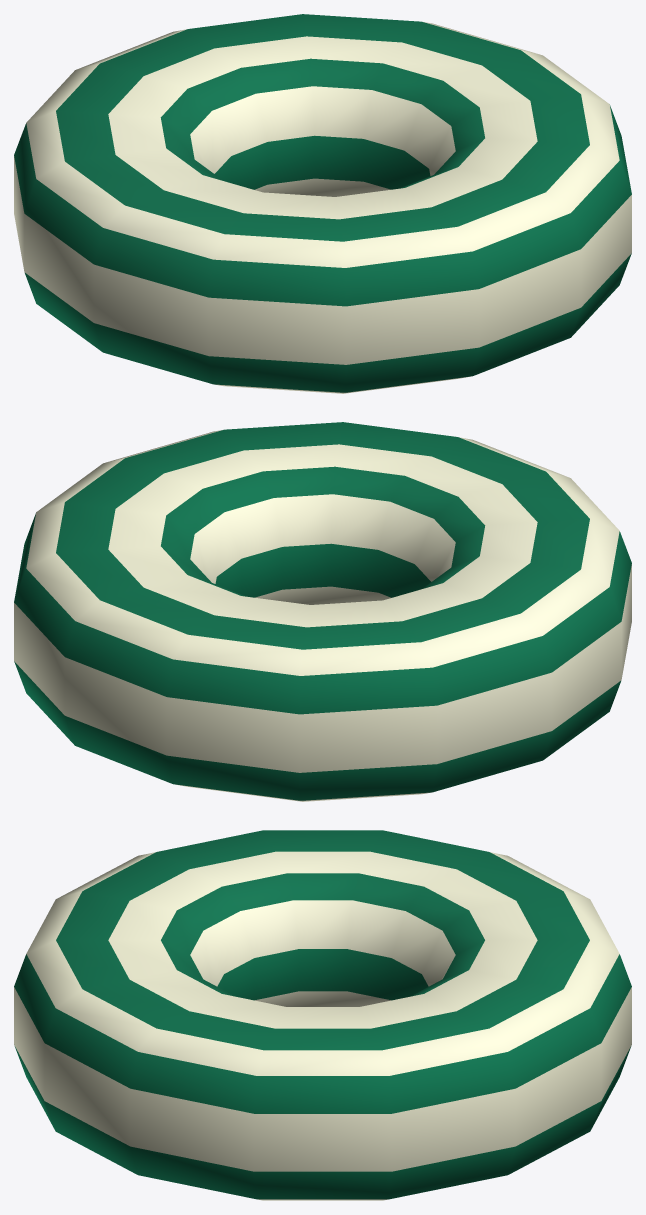
Rendered from candy_hard_6.fbx.
The picture shows the model from 3 angles, top to bottom: view 1: azimuth 30°, elevation 25°; view 2: azimuth 150°, elevation 25°; view 3: azimuth 270°, elevation 25°; orthographic projection.
Parts seen in each view (by area): view 1: c_h_6; view 2: c_h_6; view 3: c_h_6.
Boxes of the visible parts, x1,y1,x2,y2 form: c_h_6: (14,14,631,393); c_h_6: (14,422,631,801); c_h_6: (14,830,631,1200).
Size of the model in its own units: 156 by 42.99 by 160.
